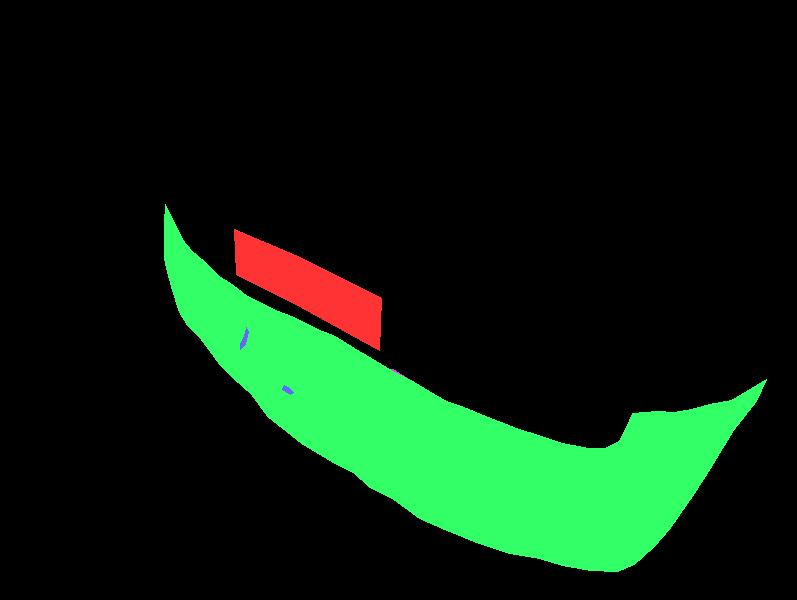Broken part: (164, 204, 766, 571)
Dent: (356, 369, 431, 491)
Missing part: (234, 229, 381, 350)
Scratch: (423, 502, 500, 523), (301, 339, 332, 350), (240, 327, 248, 349), (282, 385, 293, 394)
